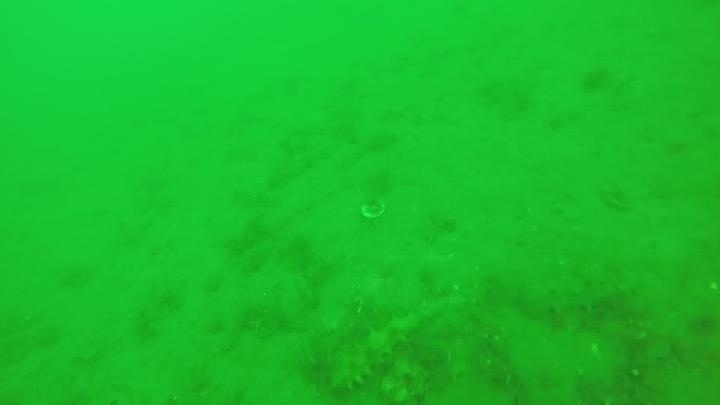holothurian: (324, 307, 437, 396), (525, 268, 643, 321)
